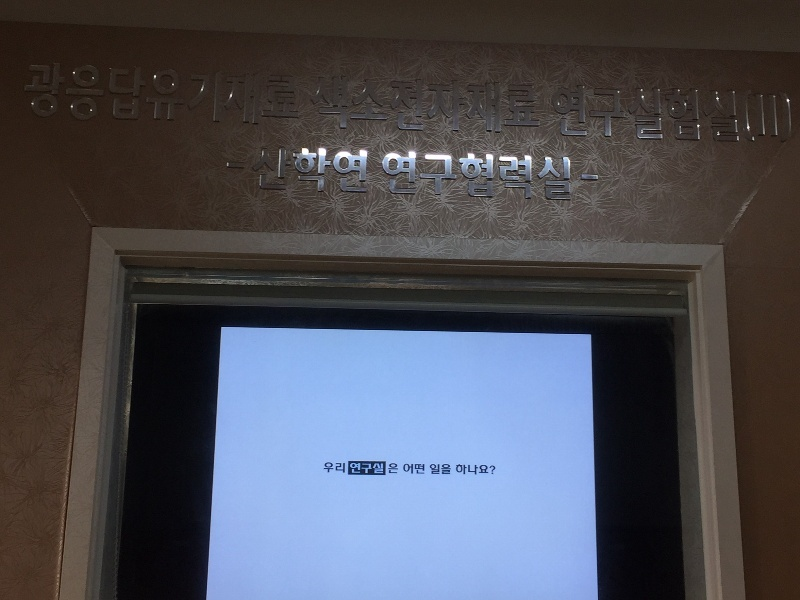text: (33, 61, 48, 127), (49, 61, 64, 127), (65, 61, 80, 127), (81, 61, 96, 127), (97, 61, 112, 127), (113, 61, 128, 127), (129, 61, 144, 127), (145, 61, 160, 127), (161, 61, 176, 127), (177, 61, 192, 127), (193, 61, 208, 127), (209, 61, 224, 127), (225, 61, 240, 127), (241, 61, 256, 127), (257, 61, 272, 127), (273, 61, 288, 127), (321, 73, 336, 135), (337, 73, 352, 135), (353, 73, 368, 135), (369, 73, 384, 135), (385, 73, 400, 135), (401, 73, 416, 135), (417, 73, 432, 135), (433, 73, 448, 135), (449, 73, 464, 135), (465, 73, 480, 135), (481, 73, 496, 135), (497, 73, 512, 135), (513, 73, 528, 135), (561, 85, 576, 144), (577, 85, 592, 144), (593, 85, 608, 144), (609, 85, 624, 144), (625, 85, 640, 144), (641, 85, 656, 144), (657, 85, 672, 144), (673, 85, 688, 144), (689, 85, 704, 144), (705, 85, 720, 144), (721, 85, 736, 144), (289, 61, 302, 127), (753, 89, 768, 144), (769, 89, 784, 144), (385, 149, 400, 203), (401, 149, 416, 203), (417, 149, 432, 203), (433, 149, 448, 203), (449, 149, 464, 203), (465, 149, 480, 203), (481, 149, 496, 203), (497, 149, 512, 203), (513, 149, 528, 203), (529, 149, 544, 203), (545, 149, 560, 203), (529, 73, 542, 135), (353, 147, 369, 194), (257, 147, 272, 194), (273, 147, 288, 194), (289, 147, 304, 194), (305, 147, 320, 194), (321, 147, 336, 194), (337, 147, 352, 194), (740, 89, 752, 144), (561, 149, 572, 203), (551, 85, 560, 144), (785, 89, 793, 144), (314, 73, 320, 135), (737, 85, 741, 144), (353, 462, 368, 475), (369, 462, 384, 475), (433, 463, 448, 476), (465, 464, 480, 476), (481, 464, 496, 476), (403, 463, 416, 475), (324, 462, 336, 474), (389, 463, 400, 475), (30, 61, 32, 127), (337, 462, 346, 474), (382, 149, 384, 203), (417, 463, 425, 475), (456, 464, 464, 476), (255, 147, 256, 194), (350, 462, 352, 475), (430, 463, 432, 476), (449, 463, 451, 476)
